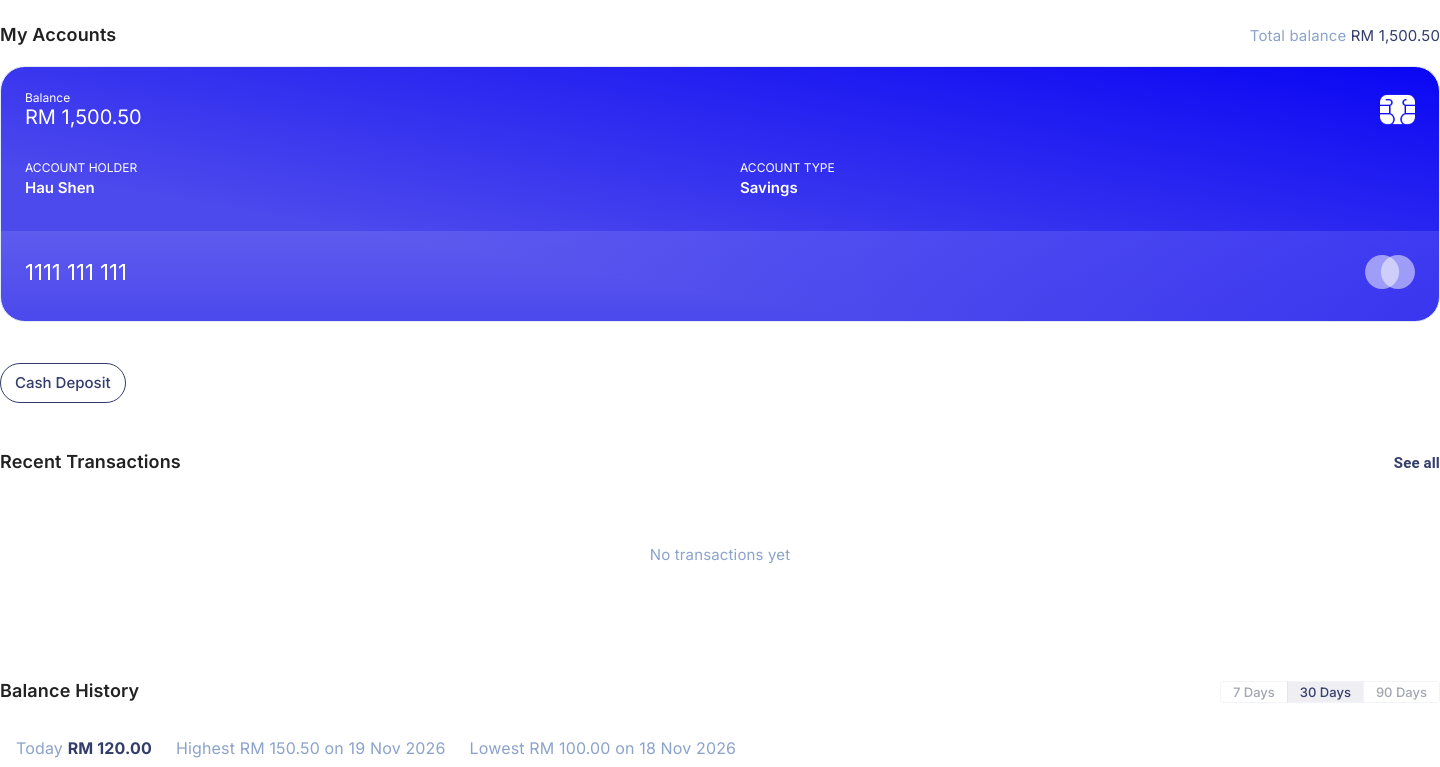
Test case: cash deposit › checks the amount before sending anything
The image size is (1440, 767).
Click the button "Cash deposit": point(63, 383) 0,363 -> 126,403
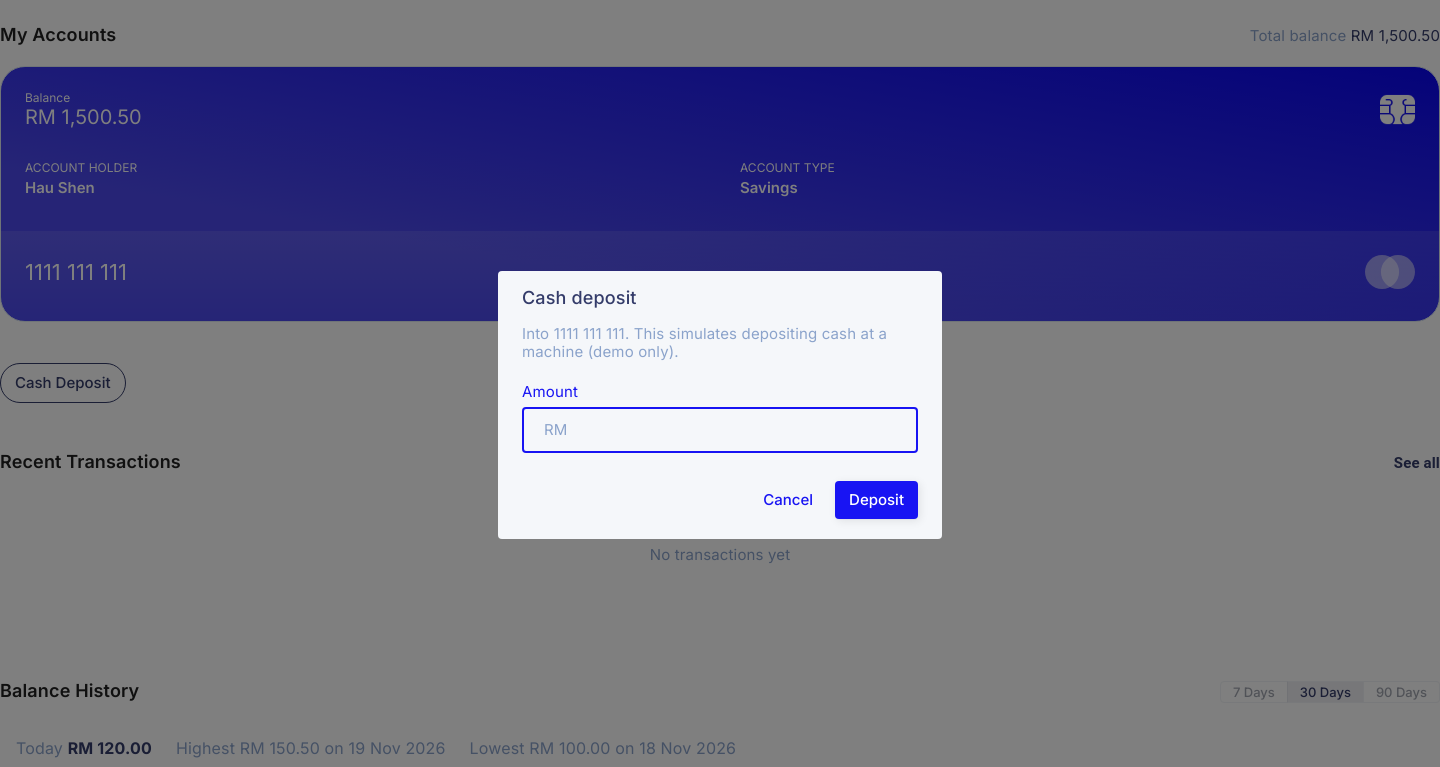
In the field labelled "Amount": point(745, 430) 572,407 -> 918,453, type "0"
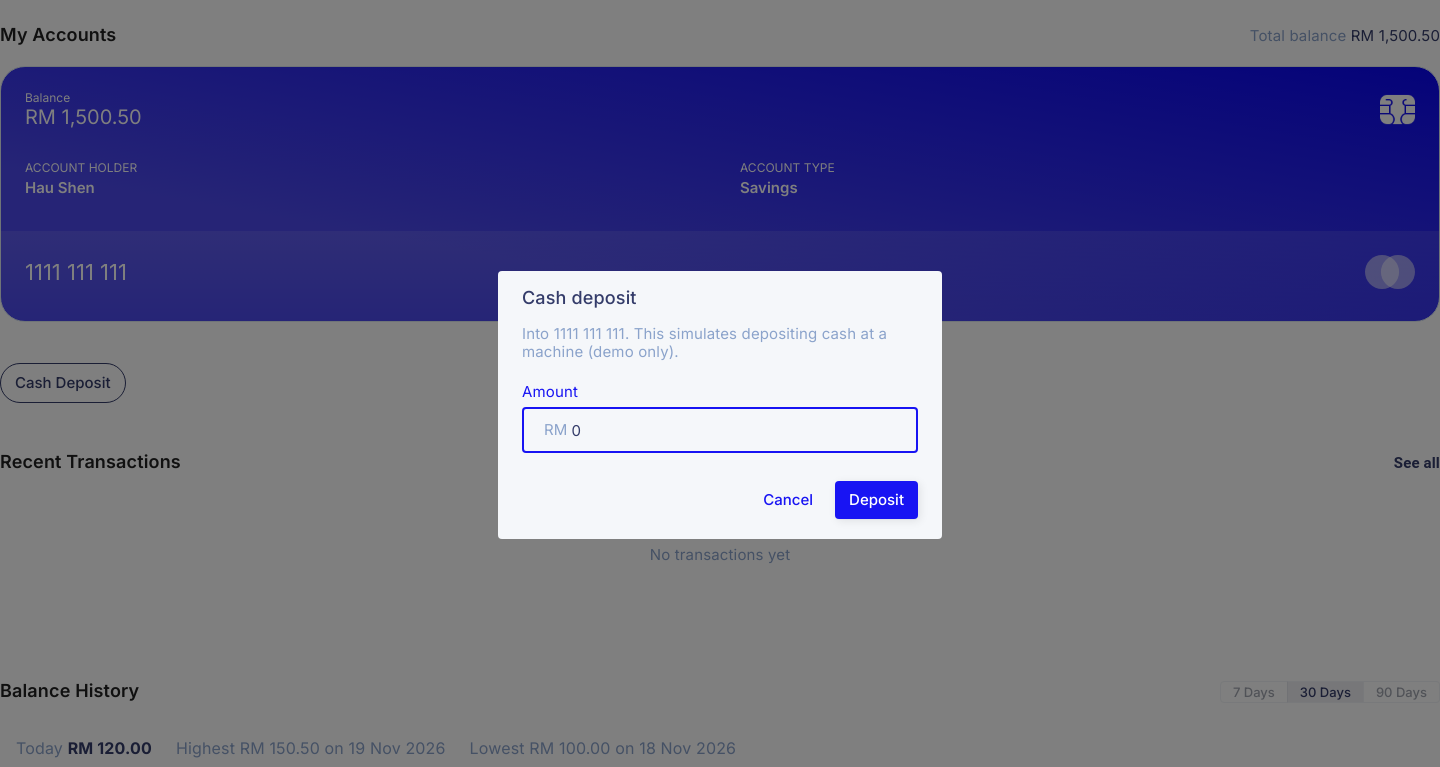
Click the button "Deposit": point(877, 500) 835,481 -> 918,519
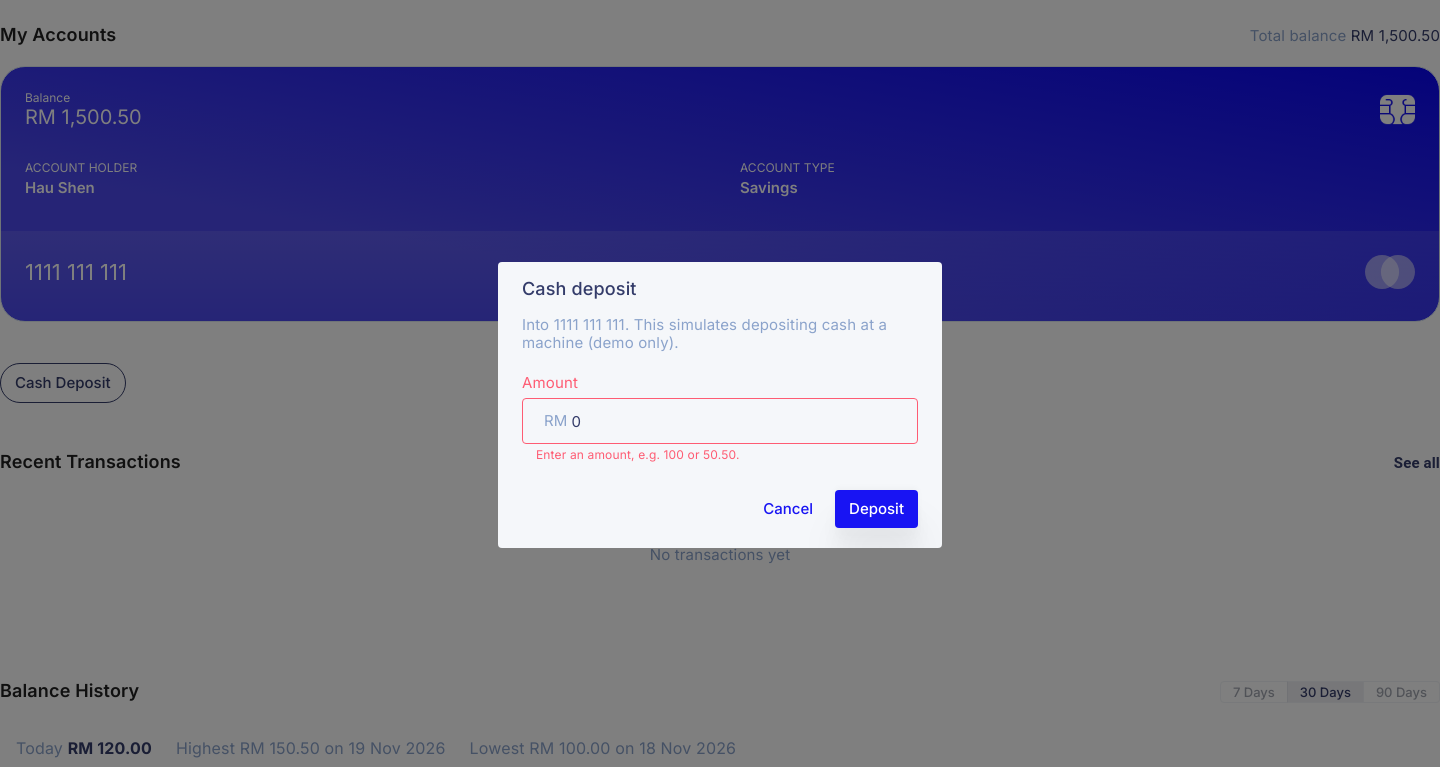
Now the text "Enter an amount, e.g. 100 or 50.50." is shown, box 536,447 -> 740,462
